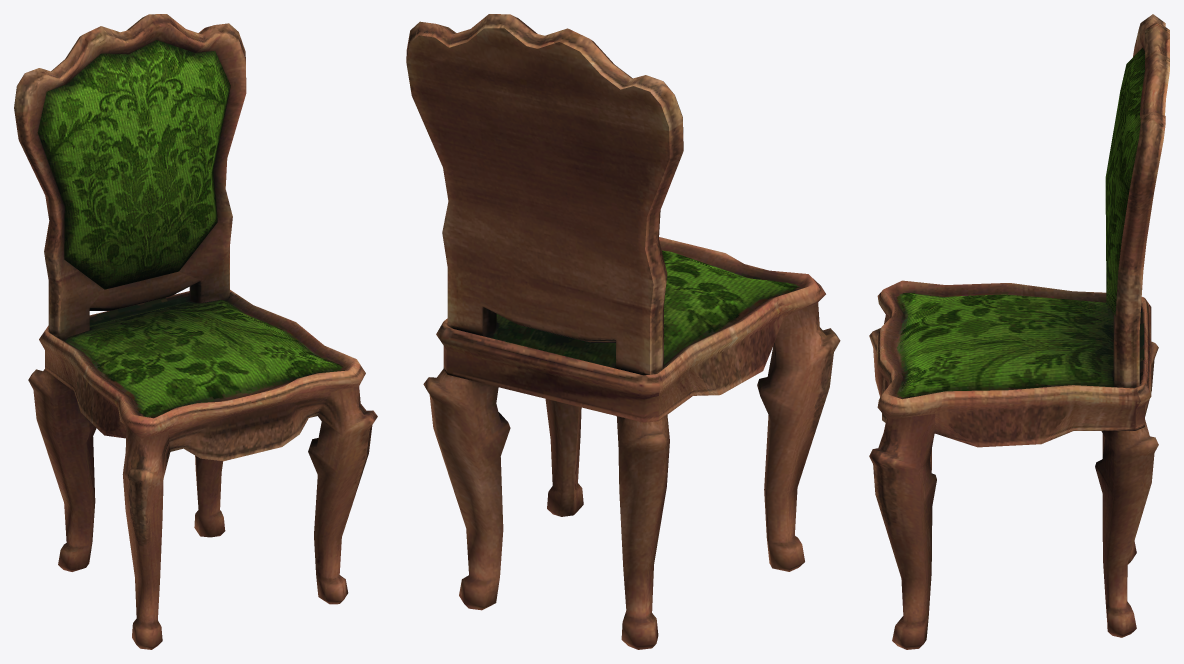
Rendered from chair_nice05.dae.
The picture shows the model from 3 angles, left to right: view 1: azimuth 30°, elevation 25°; view 2: azimuth 150°, elevation 25°; view 3: azimuth 270°, elevation 25°; orthographic projection. The views are drawn at different scales.
Visible parts, largest first — view 1: chair_nice01_Mesh; view 2: chair_nice01_Mesh; view 3: chair_nice01_Mesh.
Part boxes in pixels (x1,y1,x2,y2): chair_nice01_Mesh: (14,14,377,649); chair_nice01_Mesh: (406,14,840,649); chair_nice01_Mesh: (869,14,1169,649).
Size of the model in its own units: 0.6539 by 1.31 by 0.6397.
